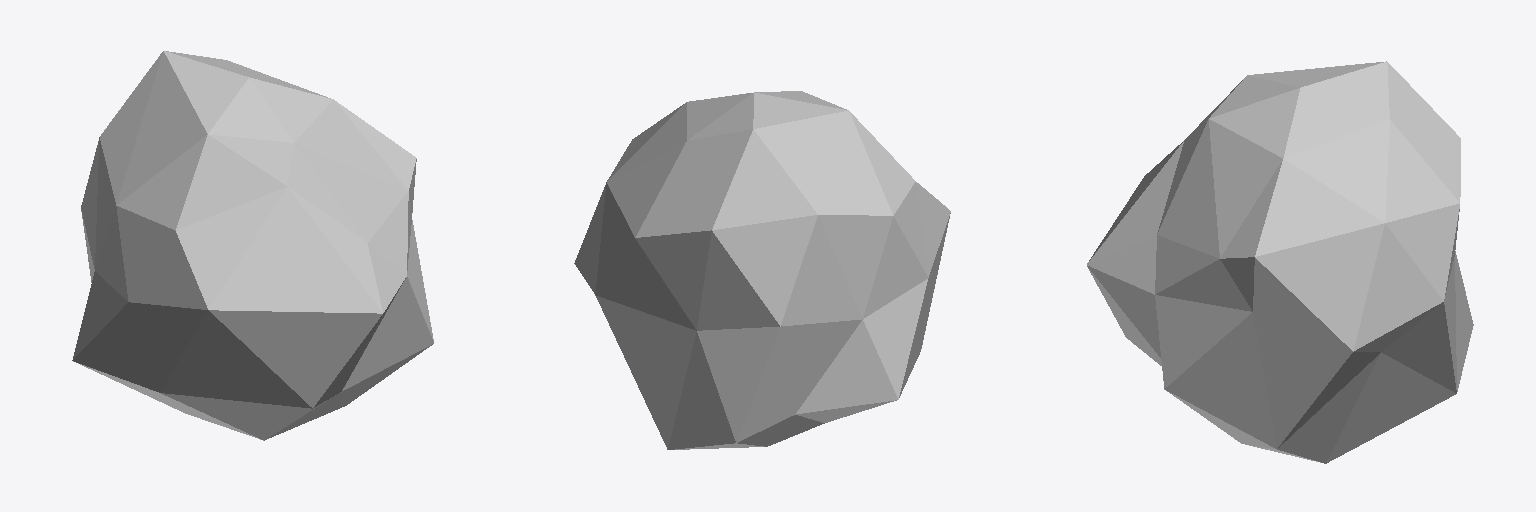
The model's file is rockmedium.obj.
3 views of the same model, side by side, from view 1: azimuth 30°, elevation 25°; view 2: azimuth 150°, elevation 25°; view 3: azimuth 270°, elevation 25° (orthographic).
Visible parts, largest first — view 1: rockmedium_Icosphere; view 2: rockmedium_Icosphere; view 3: rockmedium_Icosphere.
Boxes of the visible parts, x1,y1,x2,y2 form: rockmedium_Icosphere: [72, 51, 433, 440]; rockmedium_Icosphere: [574, 91, 950, 449]; rockmedium_Icosphere: [1087, 61, 1473, 463].
Bounding box in the file's own units: 1.57 × 1.68 × 1.68.